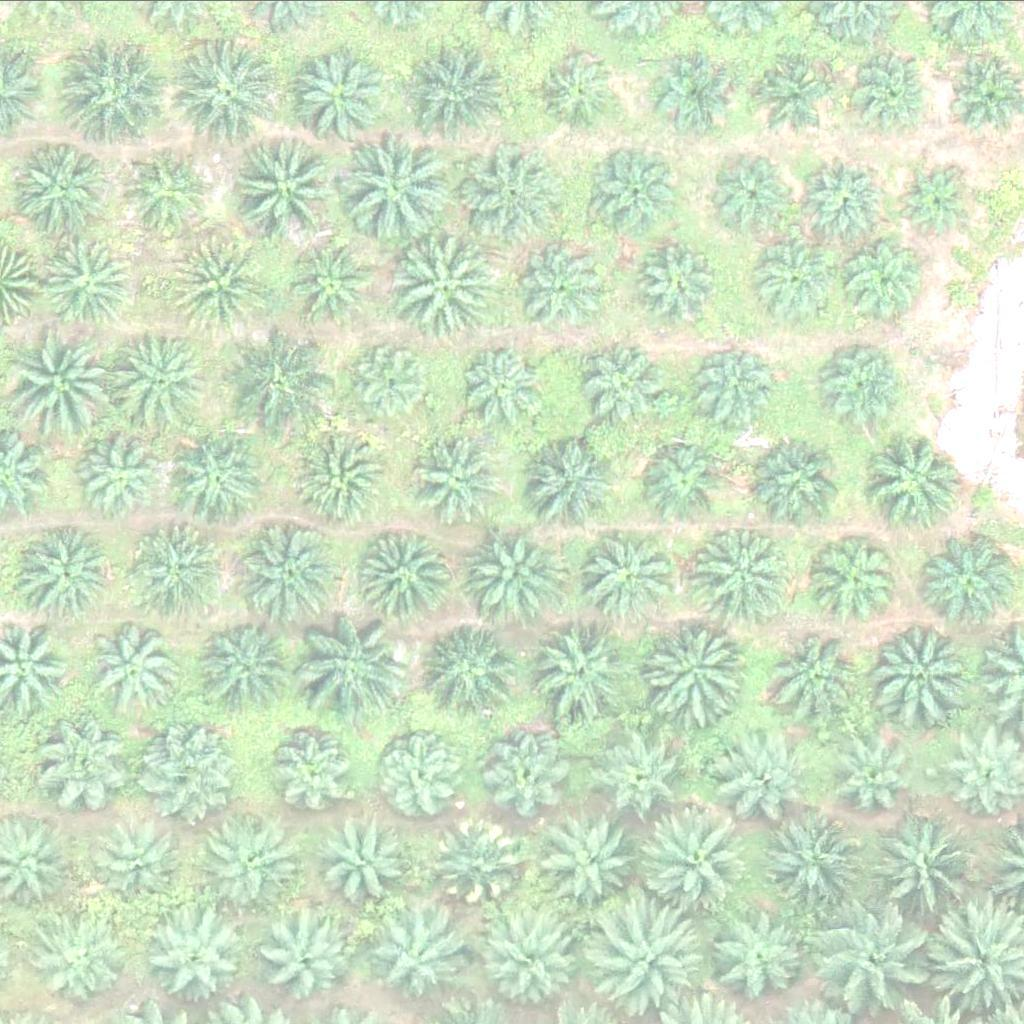Kelapa_Sawit: (874, 812, 988, 925), (408, 40, 521, 153), (345, 131, 458, 244), (301, 605, 414, 718), (820, 895, 933, 1008), (217, 320, 330, 433), (861, 614, 975, 726), (597, 897, 711, 1009), (230, 126, 344, 238), (389, 232, 502, 344), (643, 800, 756, 912), (106, 322, 219, 434), (59, 40, 172, 152), (173, 39, 286, 151), (295, 44, 396, 144), (462, 147, 563, 247), (291, 430, 392, 530), (520, 428, 621, 528), (752, 432, 853, 532), (868, 431, 969, 531), (696, 522, 797, 622), (424, 618, 525, 718), (536, 622, 637, 722), (652, 622, 753, 722), (541, 807, 642, 907), (702, 908, 803, 1008), (200, 812, 301, 912), (33, 712, 134, 812), (137, 714, 238, 814), (87, 618, 188, 718), (196, 614, 297, 714), (239, 520, 340, 620), (15, 521, 116, 621), (171, 425, 272, 525), (170, 235, 271, 335), (14, 136, 115, 236), (358, 523, 458, 623), (463, 522, 563, 622), (768, 620, 868, 720), (712, 719, 812, 819), (768, 812, 868, 912), (484, 913, 584, 1013), (143, 905, 243, 1005), (126, 513, 226, 613), (348, 334, 436, 422), (455, 345, 543, 433), (583, 341, 671, 429), (685, 348, 773, 436), (633, 246, 721, 334), (588, 148, 676, 236), (534, 47, 622, 135), (416, 432, 504, 520), (818, 532, 906, 620), (262, 915, 350, 1003), (378, 914, 466, 1002), (40, 236, 128, 324), (291, 240, 379, 328), (115, 142, 203, 230), (820, 342, 908, 429), (837, 232, 925, 319), (752, 236, 840, 323), (516, 245, 604, 332), (713, 151, 801, 238), (797, 150, 885, 237), (841, 52, 929, 139), (744, 44, 832, 131), (647, 52, 735, 139), (638, 437, 726, 524), (582, 528, 670, 615), (276, 725, 364, 812), (385, 728, 473, 815), (484, 725, 572, 812), (601, 728, 689, 815), (845, 728, 933, 815), (437, 818, 525, 905), (322, 819, 410, 906), (40, 918, 128, 1005), (98, 820, 186, 907), (73, 431, 161, 518), (894, 161, 970, 236)
